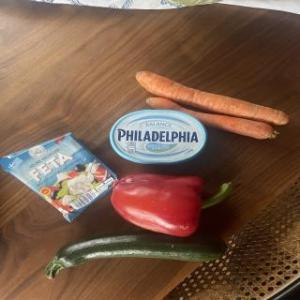bell_pepper: (105, 164, 245, 240)
carrot: (129, 66, 293, 130), (137, 87, 281, 144)
zucchini: (32, 227, 238, 291)
